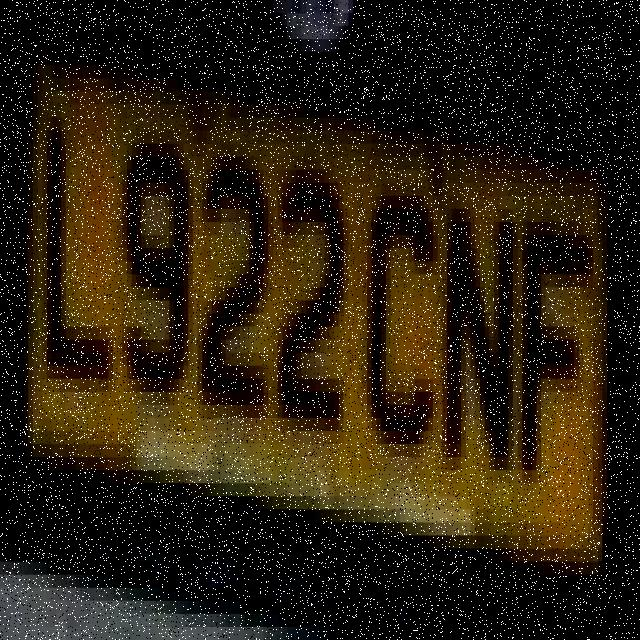licenseplate: (18, 41, 610, 556)
